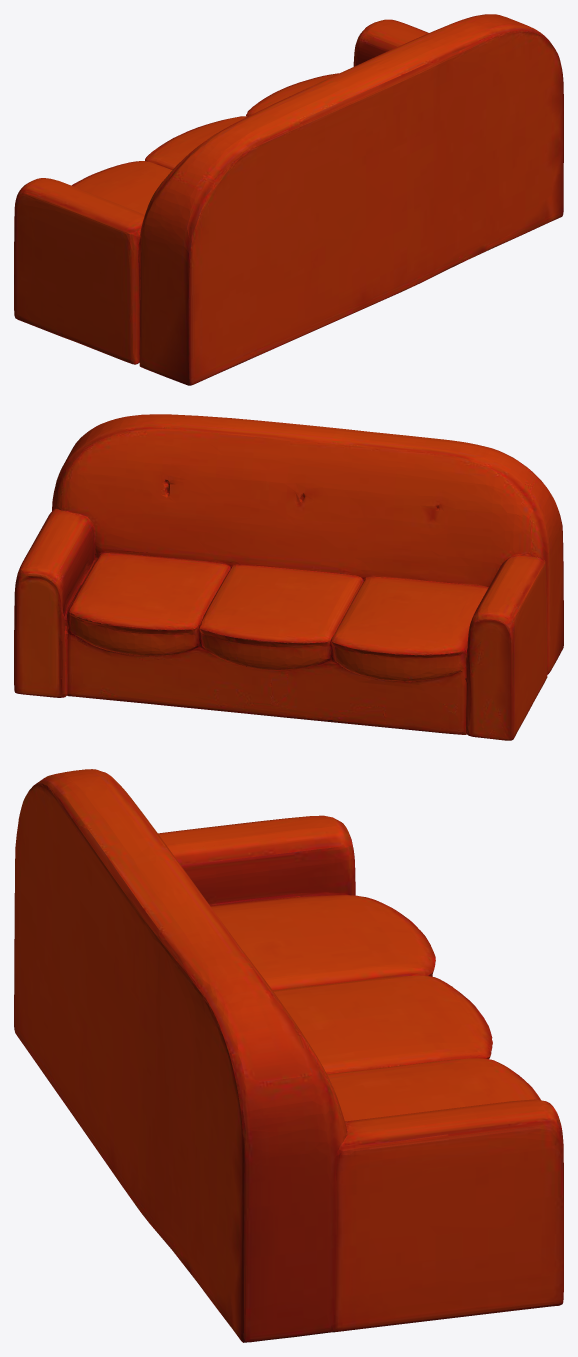
The model's file is orange_sofa_000.glb.
3 views of the same model, one above another, from view 1: azimuth 30°, elevation 25°; view 2: azimuth 150°, elevation 25°; view 3: azimuth 270°, elevation 25° (orthographic). The views are drawn at different scales.
Visible parts, largest first — view 1: orange_sofa_000.obj; view 2: orange_sofa_000.obj; view 3: orange_sofa_000.obj.
Boxes of the visible parts, left/top/right/bottom form: orange_sofa_000.obj: left=14, top=14, right=563, bottom=385; orange_sofa_000.obj: left=14, top=414, right=563, bottom=740; orange_sofa_000.obj: left=14, top=769, right=563, bottom=1342.
Size of the model in its own units: 1.47 by 0.6152 by 0.9688.
Materials: 1 (1 with a texture image).
